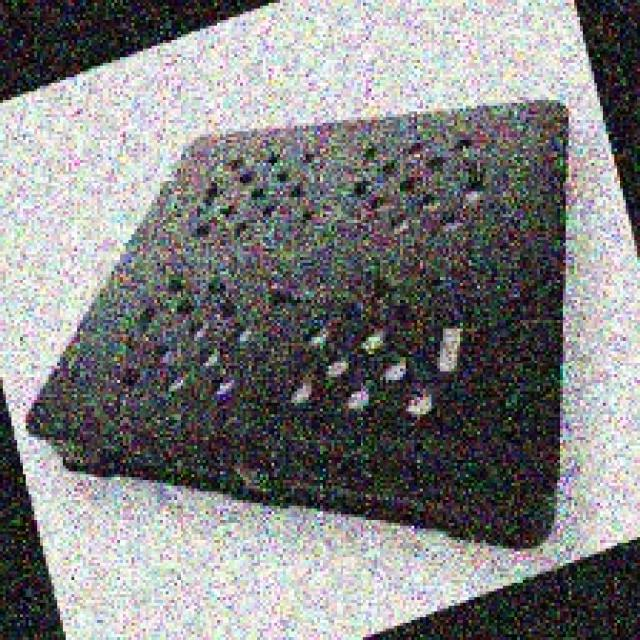igps: (23, 92, 575, 557)
